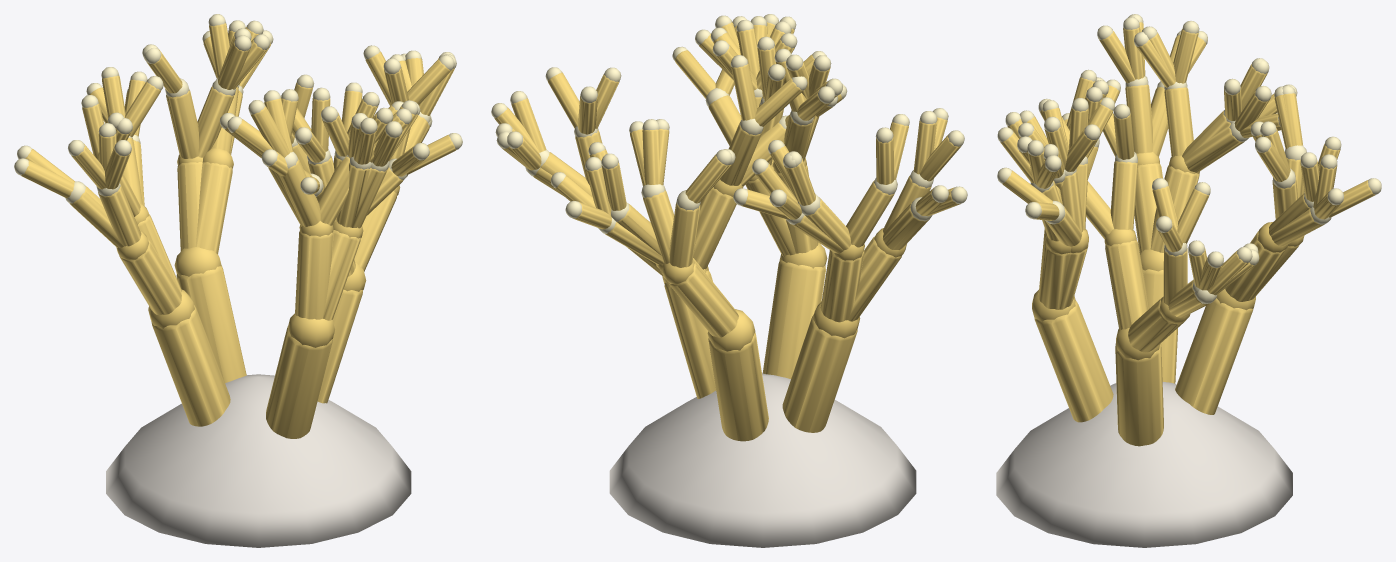
Rendered from coral_branch_c.glb.
3 renders of one model, left to right at view 1: azimuth 30°, elevation 25°; view 2: azimuth 150°, elevation 25°; view 3: azimuth 270°, elevation 25°, orthographic. The views are drawn at different scales.
Parts seen in each view (by area): view 1: coral_branch_c; view 2: coral_branch_c; view 3: coral_branch_c.
Part boxes in pixels (x1=…): coral_branch_c: x1=14, y1=14, x2=462, y2=547; coral_branch_c: x1=491, y1=14, x2=967, y2=547; coral_branch_c: x1=996, y1=14, x2=1381, y2=547.
Bounding box in the file's own units: 0.5436 × 0.4683 × 0.4092.
